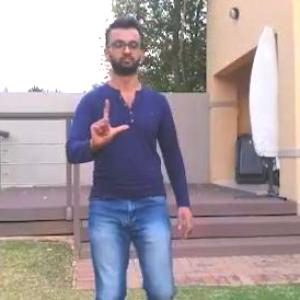land_hand: (85, 93, 137, 157)
